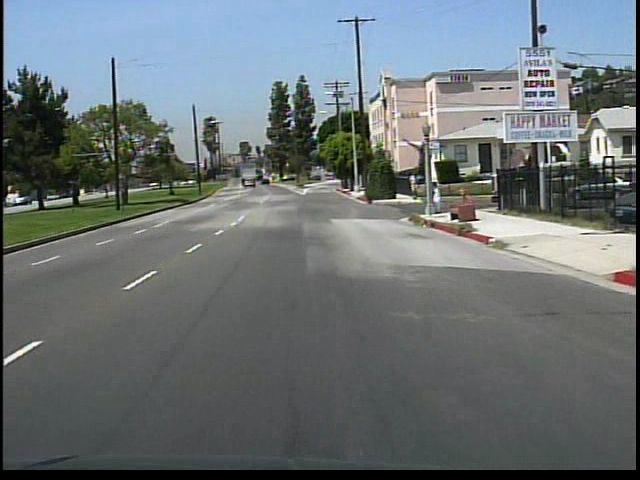person: (427, 179, 441, 218), (405, 171, 418, 199)
